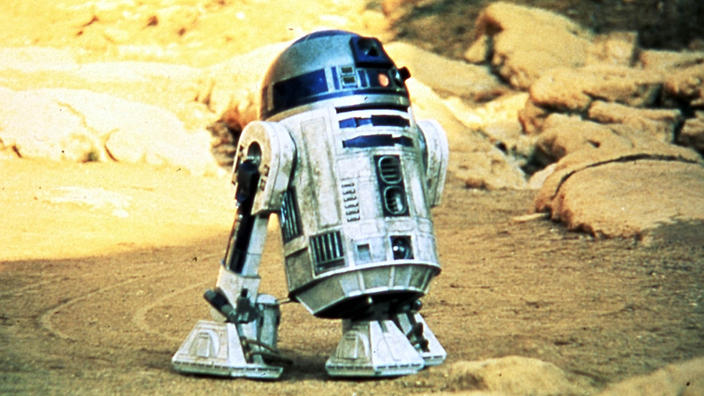r2d2: (171, 29, 447, 380)
